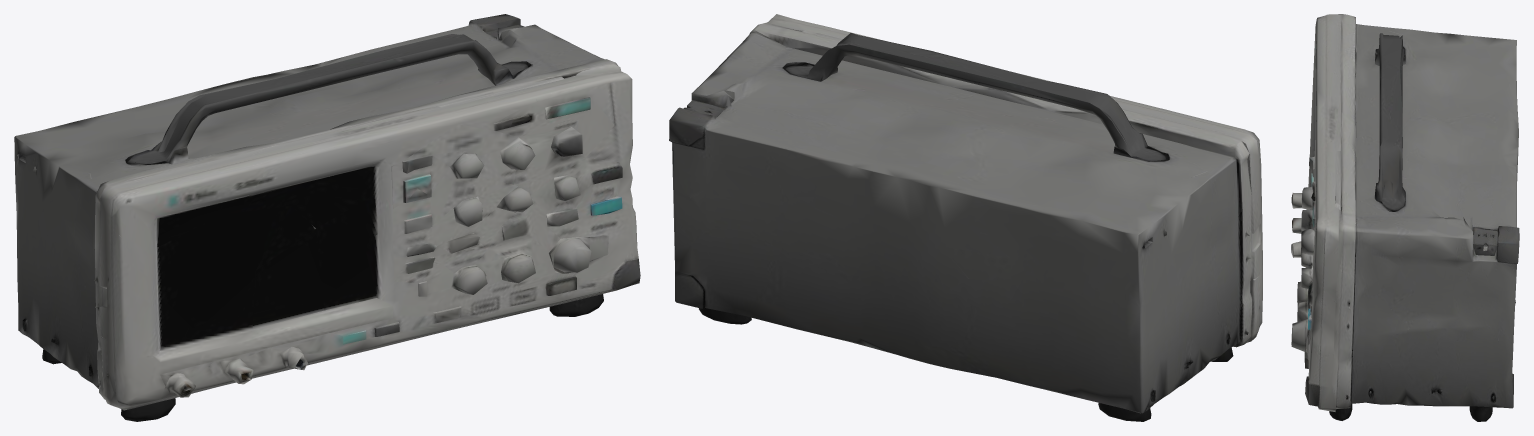
File: 19_oscilloscope.glb
3 views of the same model, side by side, from view 1: azimuth 30°, elevation 25°; view 2: azimuth 150°, elevation 25°; view 3: azimuth 270°, elevation 25° (orthographic). The views are drawn at different scales.
Parts seen in each view (by area): view 1: tripo_node_ea6b739a-3bdb-46f9-ba7e-330aa3201818; view 2: tripo_node_ea6b739a-3bdb-46f9-ba7e-330aa3201818; view 3: tripo_node_ea6b739a-3bdb-46f9-ba7e-330aa3201818.
Part boxes in pixels (x1,y1,x2,y2): tripo_node_ea6b739a-3bdb-46f9-ba7e-330aa3201818: (14, 14, 640, 421); tripo_node_ea6b739a-3bdb-46f9-ba7e-330aa3201818: (669, 14, 1262, 421); tripo_node_ea6b739a-3bdb-46f9-ba7e-330aa3201818: (1291, 14, 1519, 421).
Bounding box in the file's own units: 0.32 × 0.16 × 0.14.
Materials: 1 (1 with a texture image).
